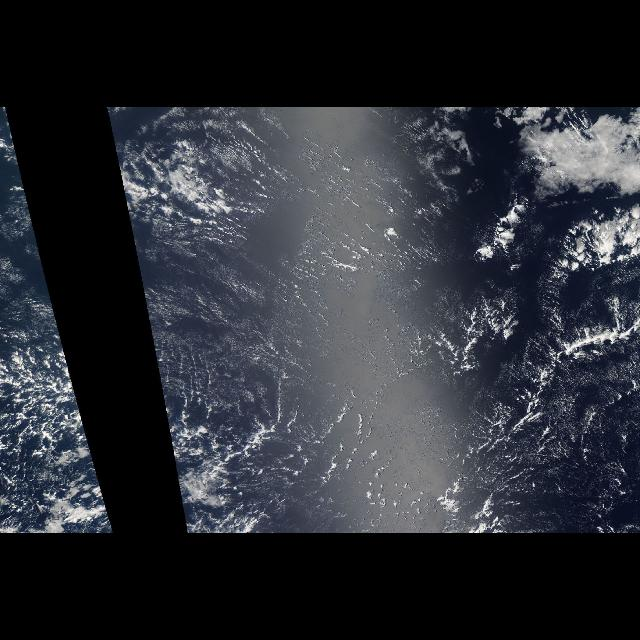Sugar: (140, 127, 638, 510)
